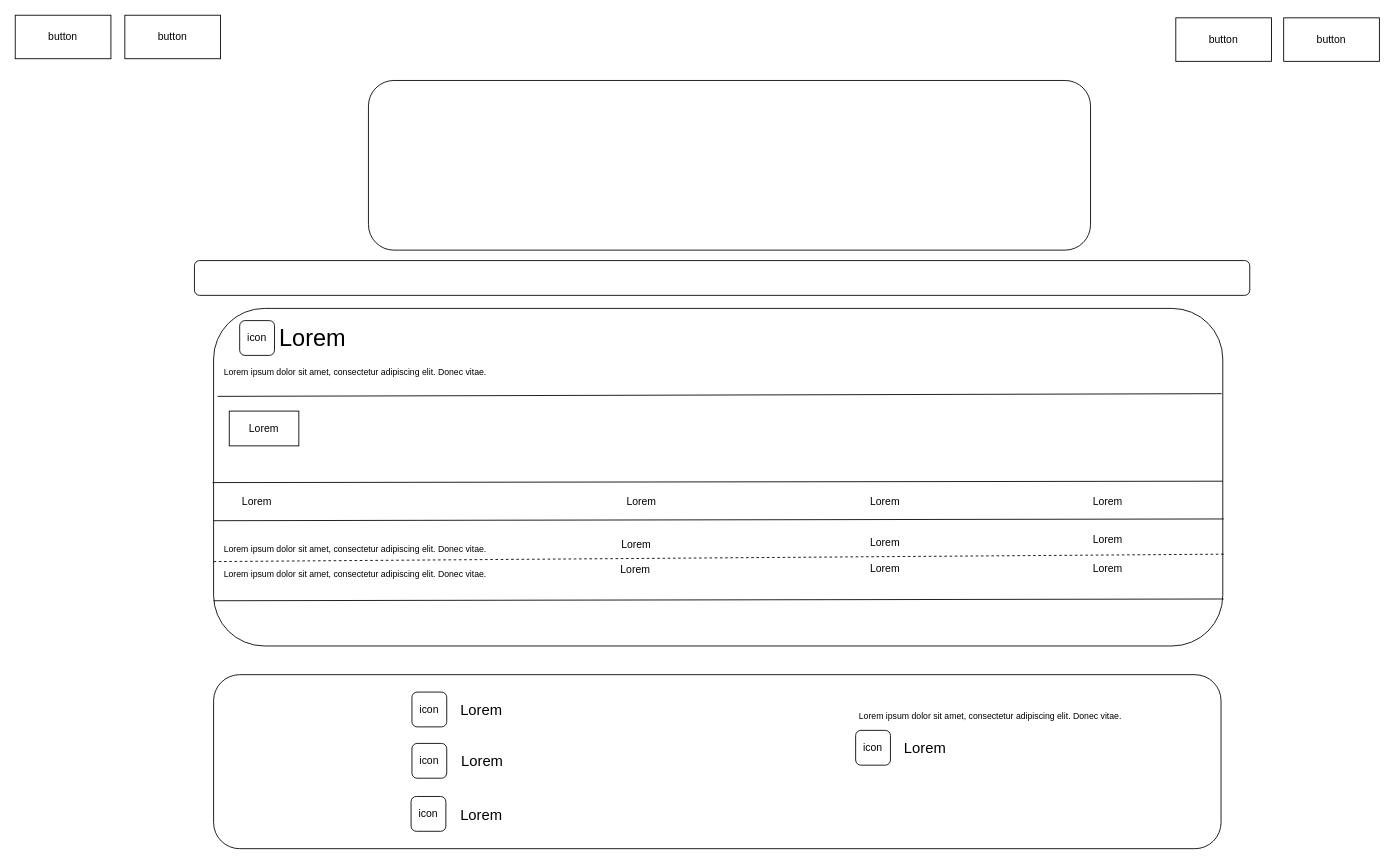
This 1395x864 diagram has some shape labels left out. Here are the shapes that lost their labels. From the top down, the box of each, then its label:
(368, 80, 1091, 250): IMG
(194, 260, 1250, 295): Lorem -> Lorem
